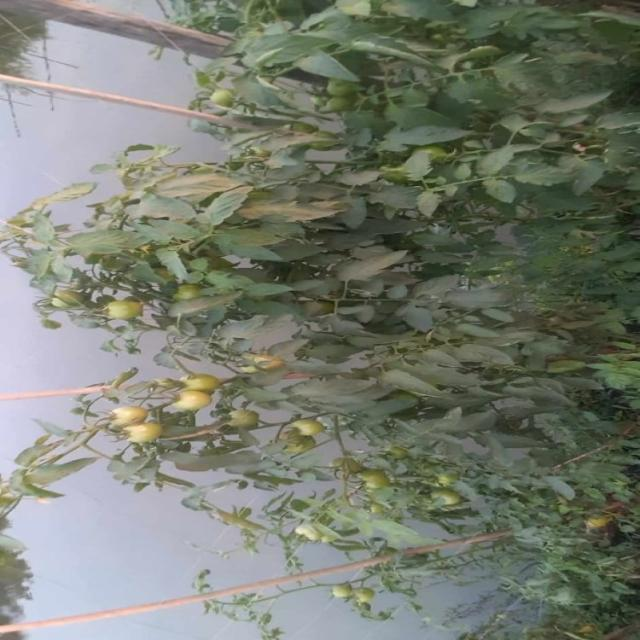tomato: (121, 420, 162, 456), (201, 82, 243, 116), (105, 405, 159, 430), (184, 374, 226, 400), (174, 389, 216, 413), (102, 300, 144, 324), (231, 406, 267, 433), (430, 490, 463, 519), (291, 420, 328, 445), (359, 467, 394, 493), (354, 580, 384, 608), (302, 522, 331, 550), (332, 577, 358, 607), (252, 351, 281, 374), (324, 85, 346, 112), (174, 285, 203, 305), (581, 519, 608, 536)
